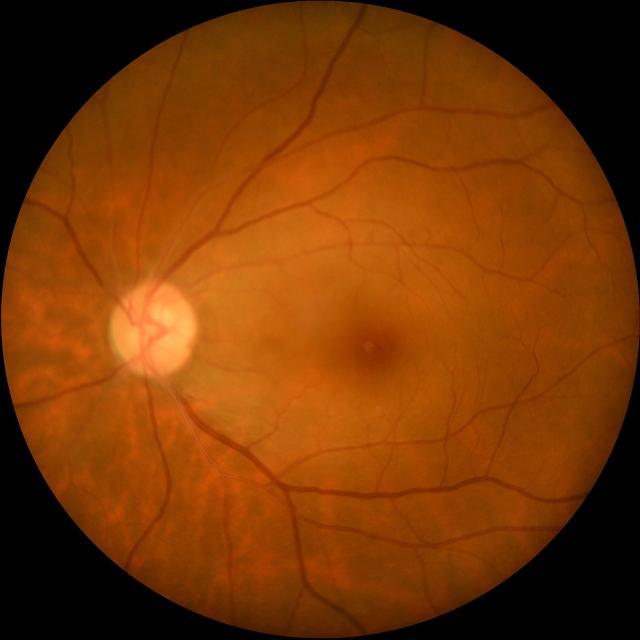OC: (135, 305, 175, 353)
OD: (109, 280, 195, 378)
